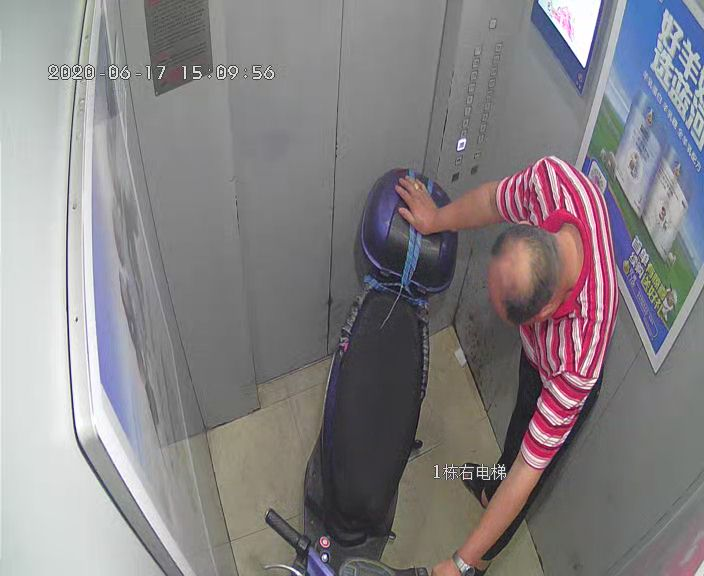Electric-bicycle: (263, 171, 454, 575)
